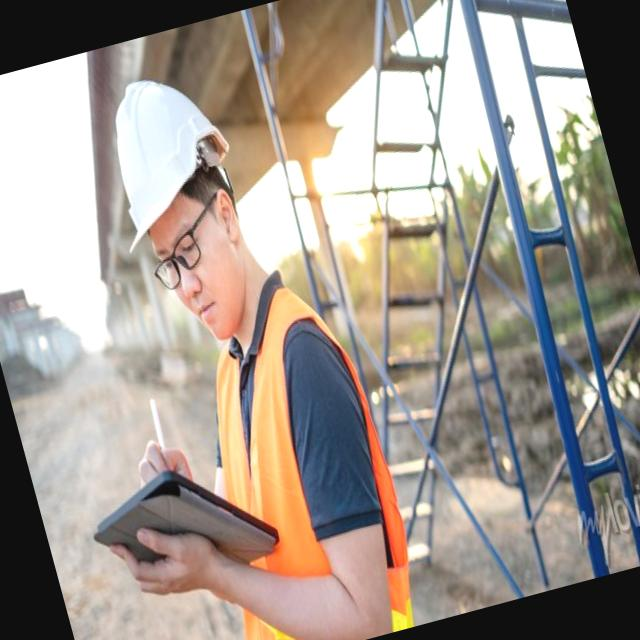goggles: (128, 210, 246, 300)
helmet: (72, 60, 254, 262)
vest: (142, 265, 432, 640)
